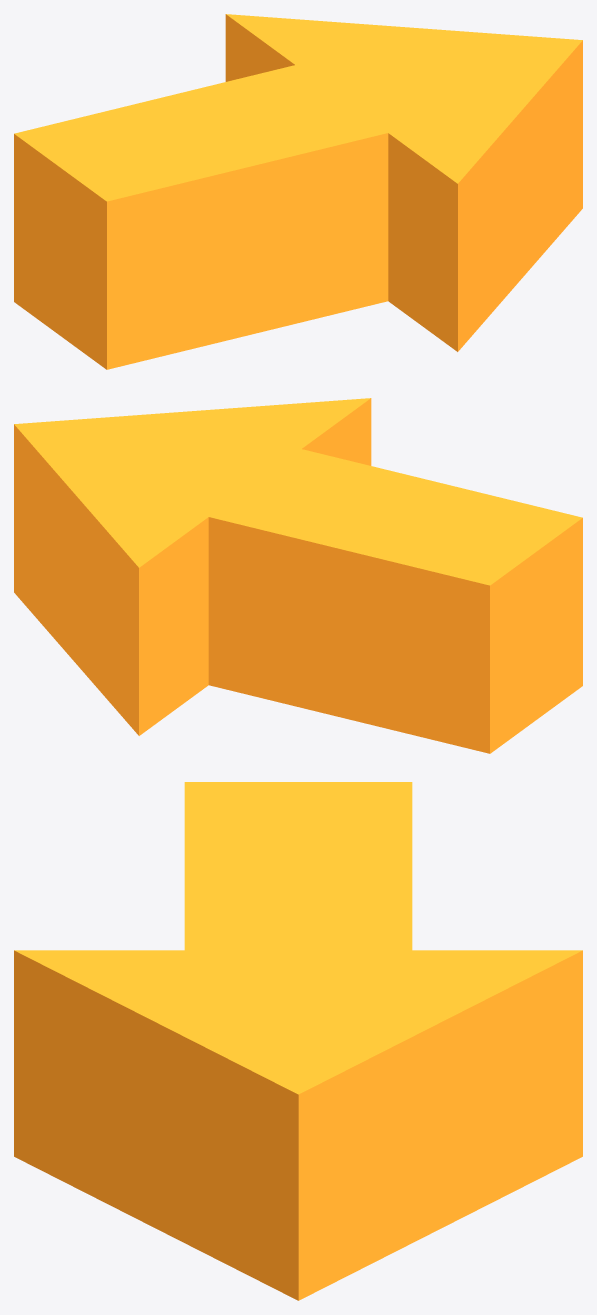
File: Prop_EvoArrow3D.fbx
The picture shows the model from 3 angles, top to bottom: view 1: azimuth 30°, elevation 25°; view 2: azimuth 150°, elevation 25°; view 3: azimuth 270°, elevation 25°; orthographic projection. The views are drawn at different scales.
Visible parts, largest first — view 1: Catalog_Prop_EvoArrow3D; view 2: Catalog_Prop_EvoArrow3D; view 3: Catalog_Prop_EvoArrow3D.
Part boxes in pixels (x1,y1,x2,y2): Catalog_Prop_EvoArrow3D: (14,14,582,369); Catalog_Prop_EvoArrow3D: (14,398,582,753); Catalog_Prop_EvoArrow3D: (14,782,582,1300).
Bounding box in the file's own units: 0.572 × 0.176 × 0.44.
